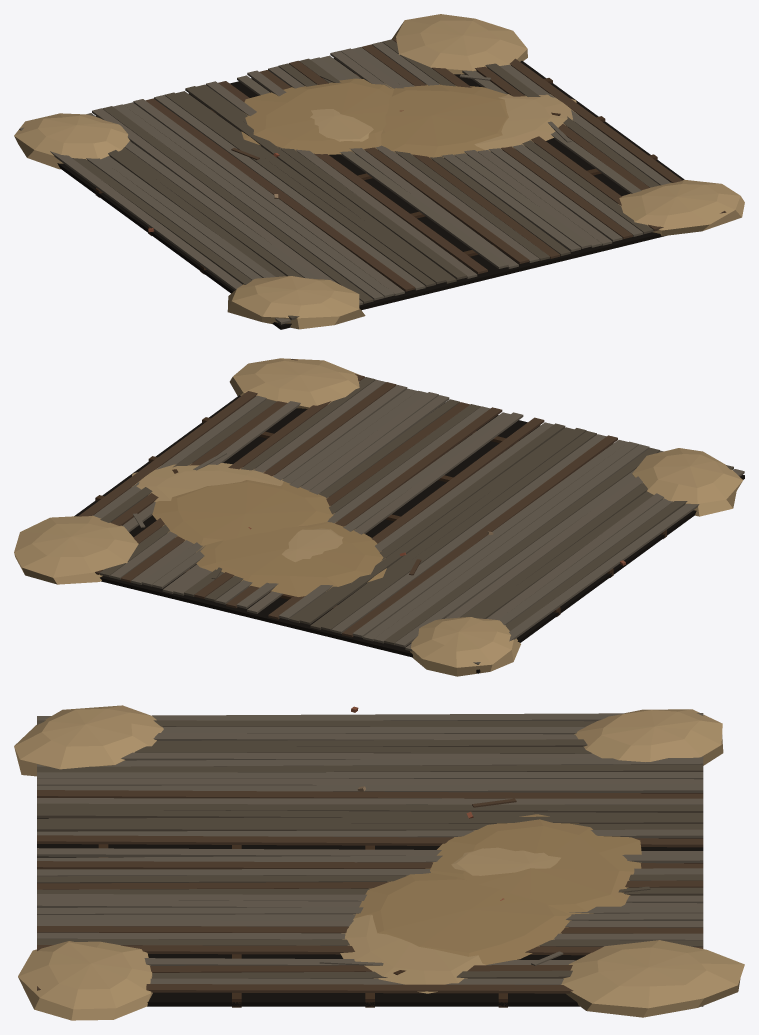
Rendered from TownFloorPlank.glb.
3 renders of one model, top to bottom at view 1: azimuth 30°, elevation 25°; view 2: azimuth 150°, elevation 25°; view 3: azimuth 270°, elevation 25°, orthographic. The views are drawn at different scales.
Visible parts, largest first — view 1: TownFloorPlank.001; view 2: TownFloorPlank.001; view 3: TownFloorPlank.001.
Part boxes in pixels (x1=…): TownFloorPlank.001: x1=14, y1=14, x2=744, y2=329; TownFloorPlank.001: x1=14, y1=358, x2=744, y2=676; TownFloorPlank.001: x1=14, y1=705, x2=744, y2=1020.
Size of the model in its own units: 15.39 by 0.8368 by 15.36.
